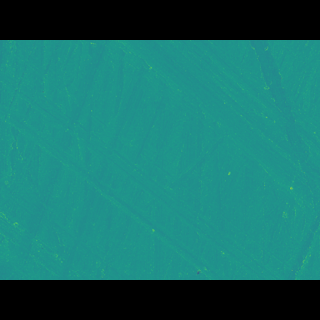Loch: (0, 93, 283, 250), (111, 70, 320, 198)
